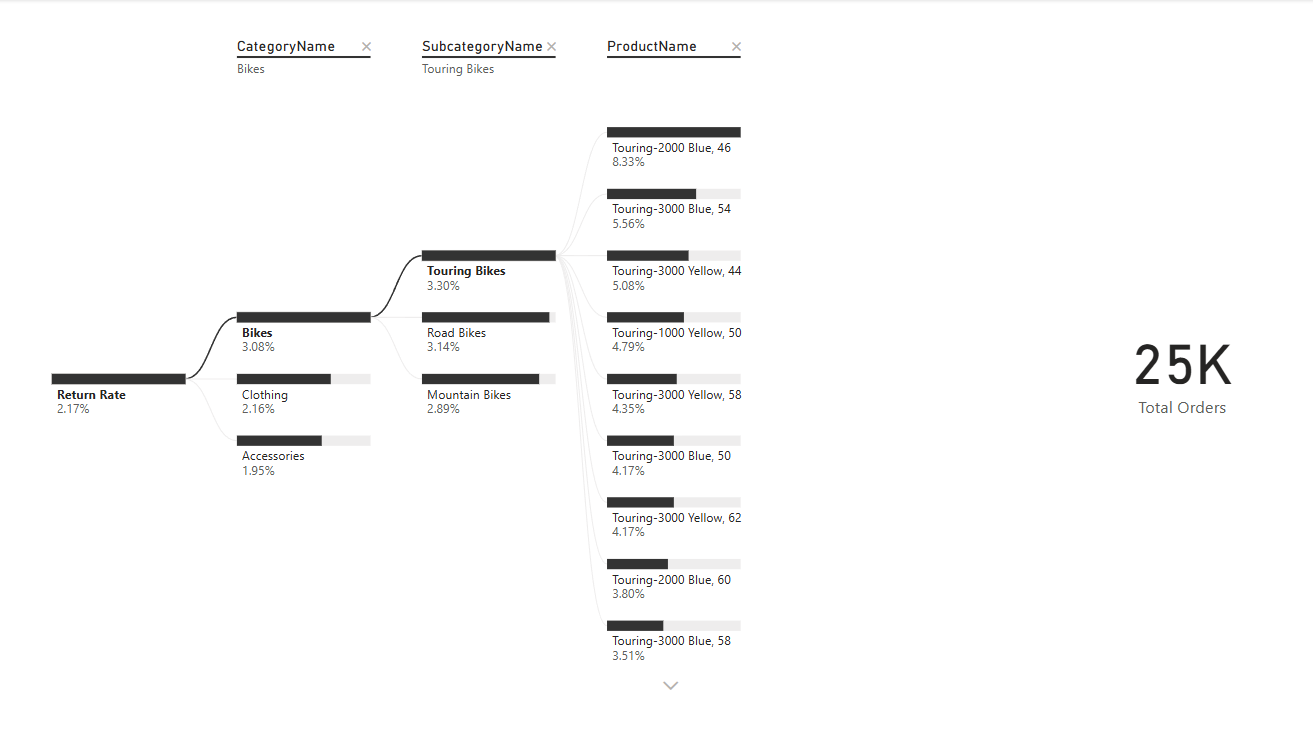

The page's visual inventory and layout, read from the dashboard file:
{"tool":"powerbi","page":{"name":"Key Influencers","canvas":[1280,720],"ordinal":13},"visuals":[{"type":"keyDriversVisual","fields":{"Target":["Customer Lookup.HomeOwner"],"ExplainBy":["Customer Lookup.AnnualIncome","Customer Lookup.EducationLevel","Customer Lookup.Parent","Customer Lookup.MaritalStatus","Customer Lookup.Occupation"]},"box":[0,25.7,650.7,666.4],"z":0},{"type":"keyDriversVisual","fields":{"ExplainBy":["Sum(Product Lookup.ProductCost)"],"Details":["Product Subcategories Lookup.SubcategoryName"],"Target":["Measure Table.Average Retail Price"]},"box":[663.5,25.7,616.5,666.4],"z":1000}]}

Visuals, with their boxes in screenshot pixels (x1, y1, x2, y2), scaled from the page's 1280x720 canvas onto the 1313x736 screenshot:
keyDriversVisual - Customer Lookup.HomeOwner x Customer Lookup.AnnualIncome: bbox(0, 26, 667, 707)
keyDriversVisual - Sum(Product Lookup.ProductCost) x Product Subcategories Lookup.SubcategoryName: bbox(681, 26, 1312, 707)
